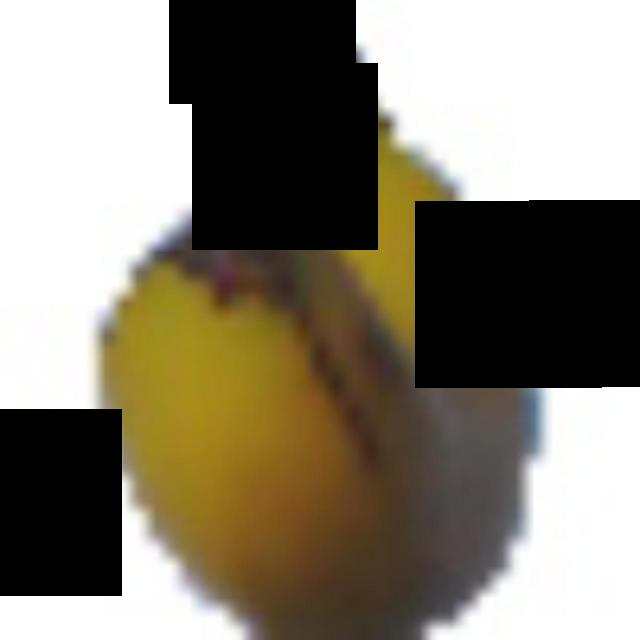banana: (89, 0, 531, 634)
